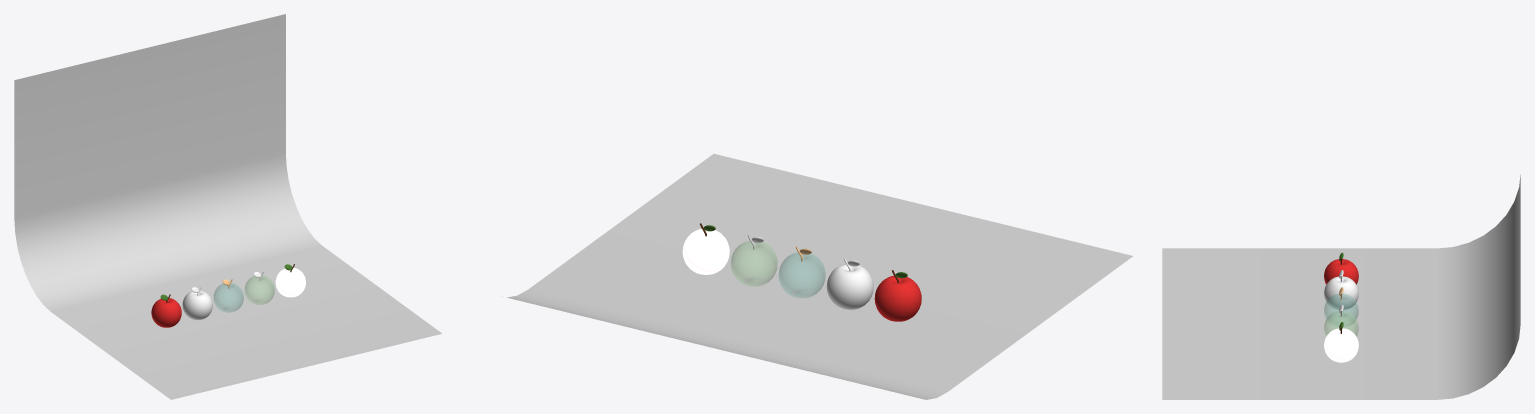
Rendered from apple.glb.
3 views of the same model, side by side, from view 1: azimuth 30°, elevation 25°; view 2: azimuth 150°, elevation 25°; view 3: azimuth 270°, elevation 25° (orthographic). The views are drawn at different scales.
Parts seen in each view (by area): view 1: Plane, Sphere.008, Sphere.002, Sphere, Sphere.006, Sphere.004; view 2: Plane, Sphere.002, Sphere.008, Sphere, Sphere.004, Sphere.006; view 3: Plane, Sphere.008, Sphere.002, Sphere.004, Sphere, Sphere.006.
Part boxes in pixels (x1,y1,x2,y2): Plane: (14, 14, 442, 399); Sphere.008: (275, 267, 305, 297); Sphere.002: (182, 290, 212, 320); Sphere: (151, 298, 181, 327); Sphere.006: (245, 275, 274, 304); Sphere.004: (214, 283, 243, 312); Plane: (507, 153, 1132, 399); Sphere.002: (826, 264, 873, 309); Sphere.008: (682, 229, 729, 274); Sphere: (874, 275, 921, 321); Sphere.004: (779, 252, 825, 297); Sphere.006: (731, 241, 777, 286); Plane: (1162, 175, 1520, 399); Sphere.008: (1324, 328, 1358, 362); Sphere.002: (1324, 276, 1358, 310); Sphere.004: (1324, 294, 1358, 327); Sphere: (1324, 259, 1358, 284); Sphere.006: (1324, 311, 1358, 336).
Bounding box in the file's own units: 2.99 × 2.16 × 2.99.
